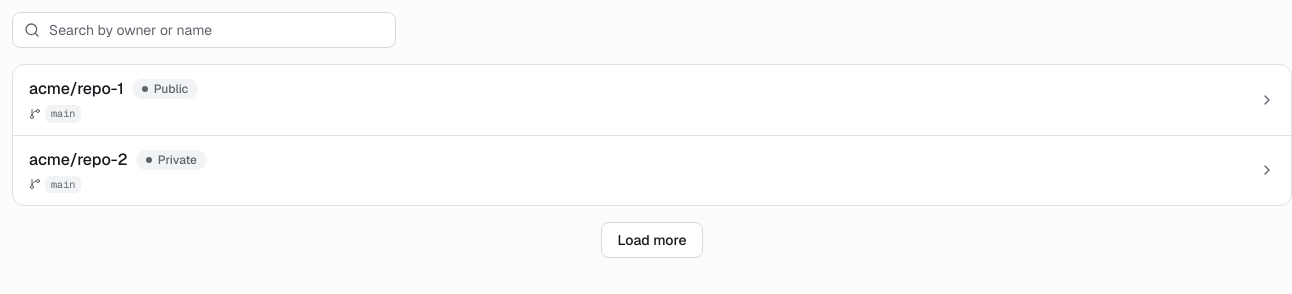
Test: RepositoryList › lists repositories and loads the next page with the cursor
Click the button "Load more".
click(652, 240)  # box x1=600 y1=222 x2=704 y2=258
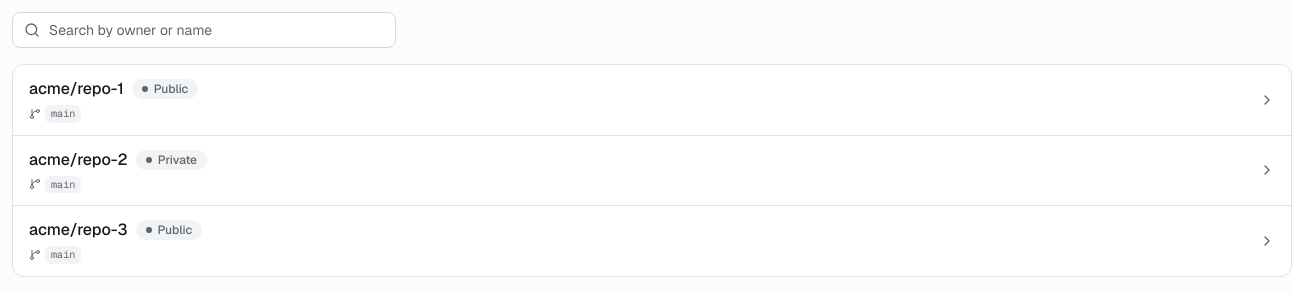
Expected: the link "acme/repo-3" is shown, x1=29 y1=219 x2=128 y2=240
Expected: the button "Load more" is gone
